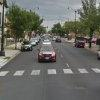Crosswalk: (7, 63, 99, 93)
